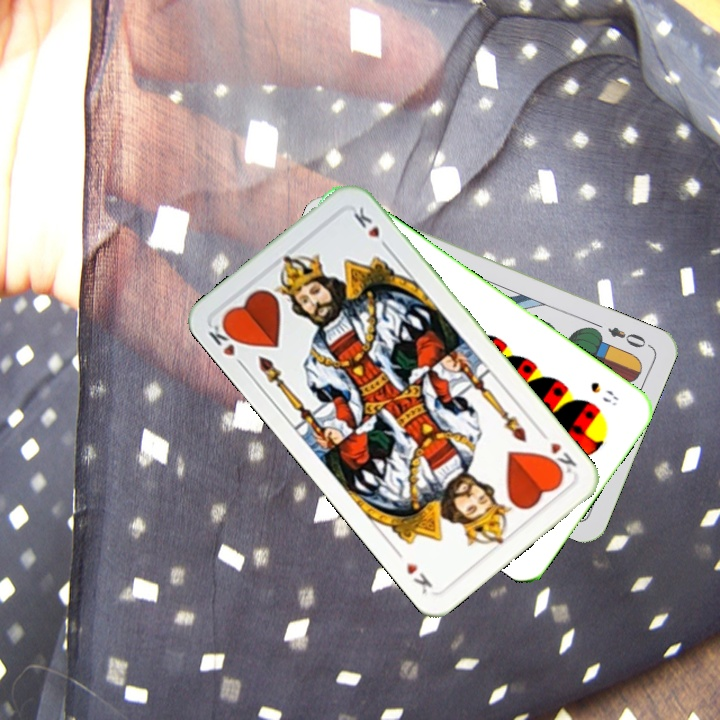EO: (603, 323, 649, 351)
HK: (204, 315, 248, 372), (535, 426, 580, 480)
S8: (586, 377, 621, 409)
